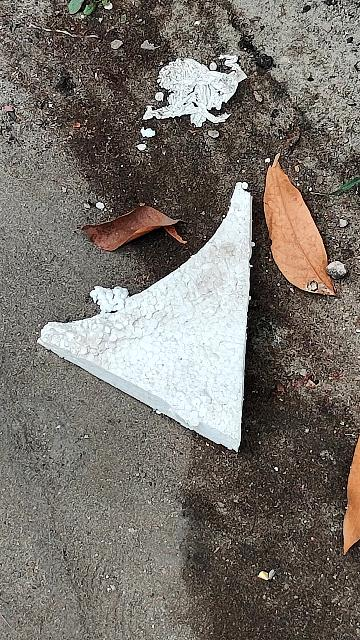cocksheet: (65, 186, 273, 444)
